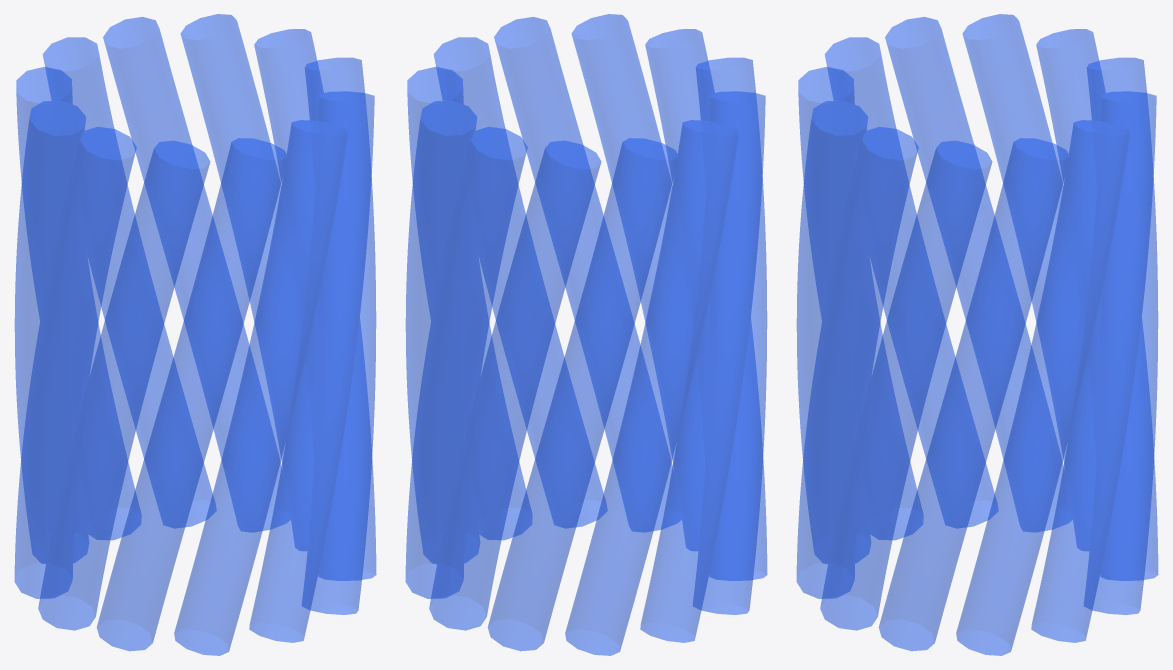
Rendered from ref06_22.glb.
3 views of the same model, side by side, from view 1: azimuth 30°, elevation 25°; view 2: azimuth 150°, elevation 25°; view 3: azimuth 270°, elevation 25° (orthographic).
Visible parts, largest first — view 1: ref06_22; view 2: ref06_22; view 3: ref06_22.
Part boxes in pixels (bbox=[...]): ref06_22: bbox=[14, 14, 376, 655]; ref06_22: bbox=[405, 14, 767, 655]; ref06_22: bbox=[796, 14, 1158, 655].
Size of the model in its own units: 0.3097 by 0.4722 by 0.3097.
